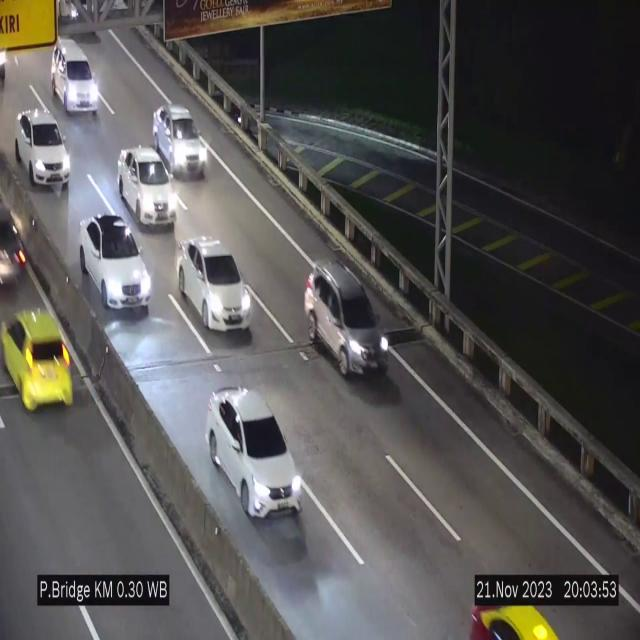Car: (207, 388, 303, 518), (442, 556, 564, 640), (304, 260, 388, 377), (0, 289, 78, 413), (178, 237, 252, 331), (79, 214, 151, 310), (118, 146, 175, 229), (15, 108, 71, 188), (152, 105, 208, 177), (51, 41, 99, 115), (0, 208, 42, 282)
